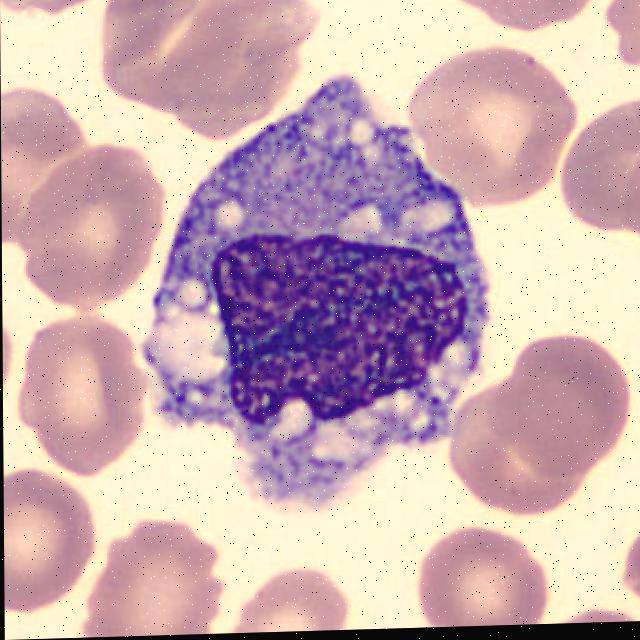monocyte: (158, 108, 480, 509)
rbc: (399, 55, 578, 226), (19, 135, 173, 323), (153, 0, 331, 152), (479, 317, 634, 484), (11, 312, 153, 489), (436, 375, 585, 524), (88, 0, 240, 123), (80, 520, 237, 638), (4, 475, 105, 624), (408, 523, 547, 628), (1, 81, 78, 245), (560, 113, 640, 251), (231, 560, 362, 633), (430, 0, 596, 46), (605, 0, 640, 72), (2, 292, 20, 413)
